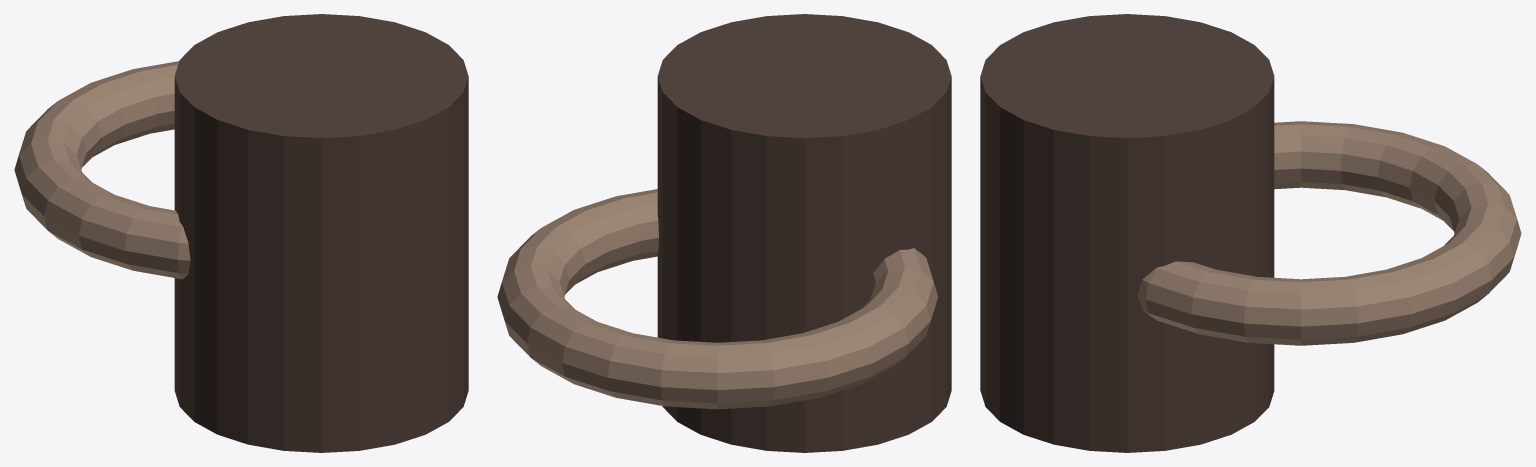
The model's file is hole.glb.
3 views of the same model, side by side, from view 1: azimuth 30°, elevation 25°; view 2: azimuth 150°, elevation 25°; view 3: azimuth 270°, elevation 25° (orthographic).
Parts seen in each view (by area): view 1: Cylinder; view 2: Cylinder; view 3: Cylinder.
Part boxes in pixels (x1,y1,x2,y2): Cylinder: (14, 14, 468, 452); Cylinder: (497, 14, 951, 452); Cylinder: (980, 14, 1521, 452).
Size of the model in its own units: 0.33 by 0.26 by 0.405.
